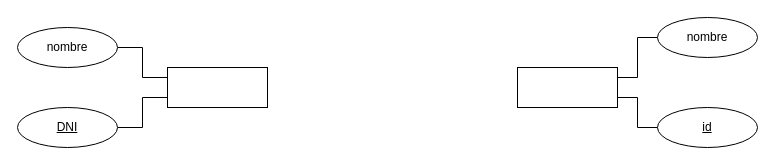
The diagram is 775 pixels wide and 165 high, and some of its shapes have lost their labels. The centre of each missing label's shape, as x and y in pixels:
"Ciudades" belongs at (567,87).
"Personas" belongs at (217,87).
